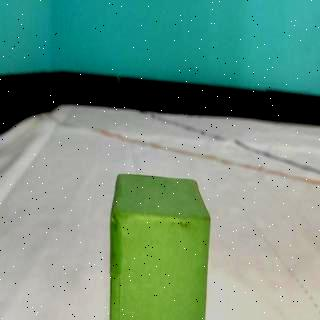greenbox: (106, 171, 212, 320)
